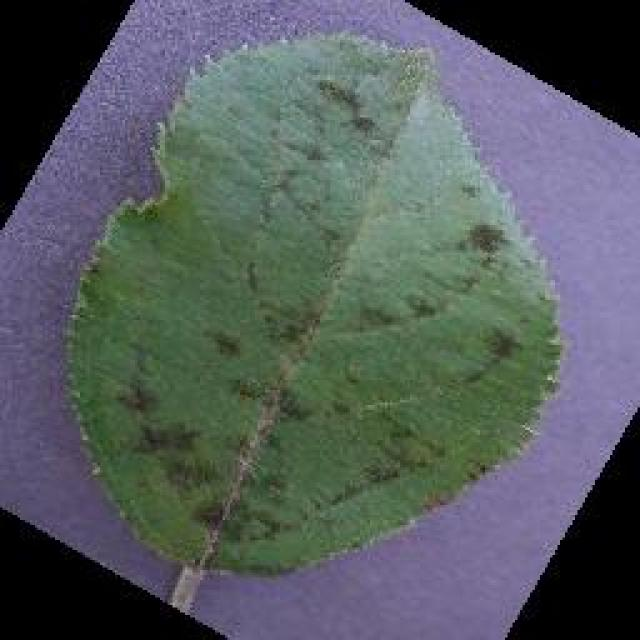apple scab disease: (60, 25, 565, 603)
